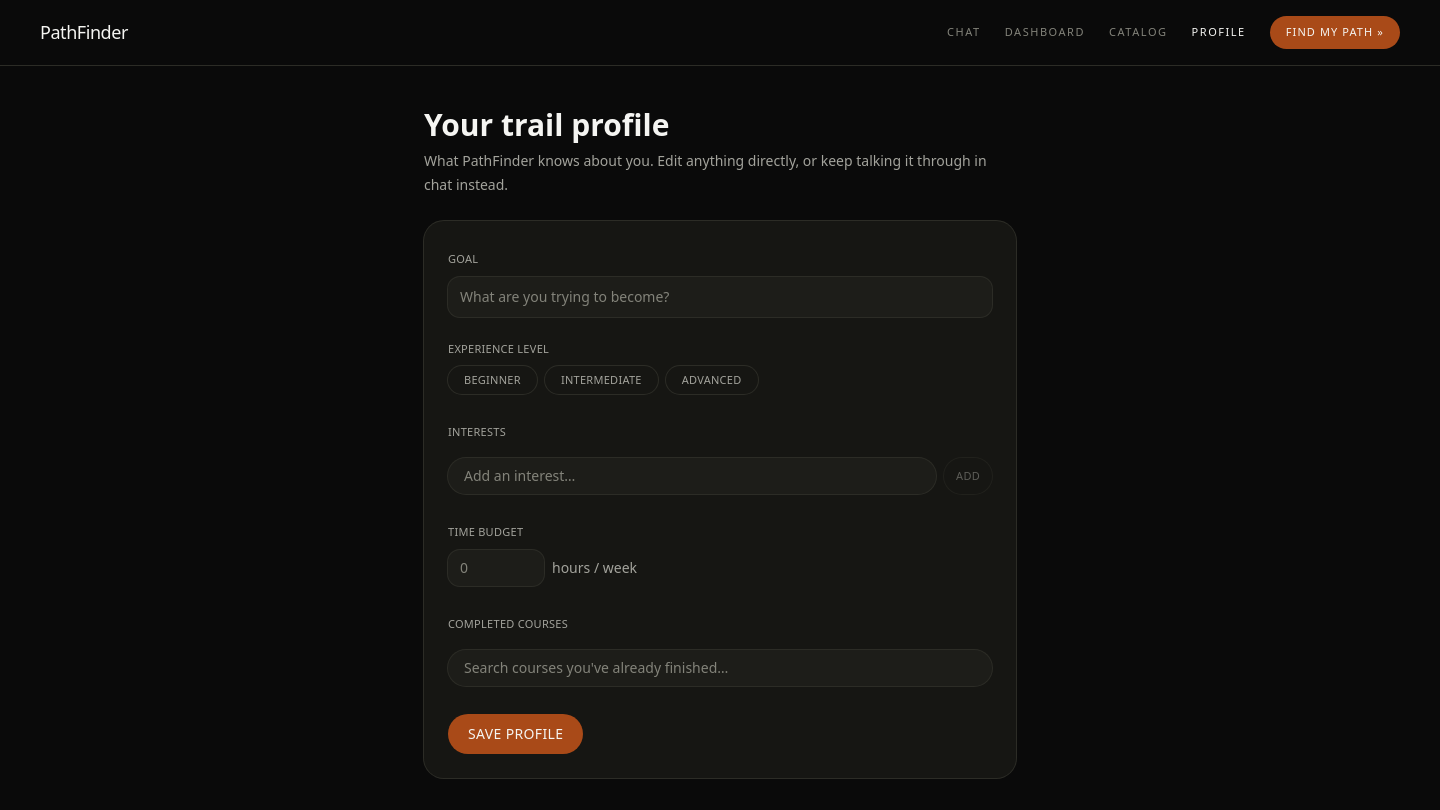
ProfilePage › saves the edited experience level via PATCH
expect the heading "Your trail profile" is shown: met, box [424,104,669,144]
Click the button "Beginner": (492, 380) [448,366,537,394]
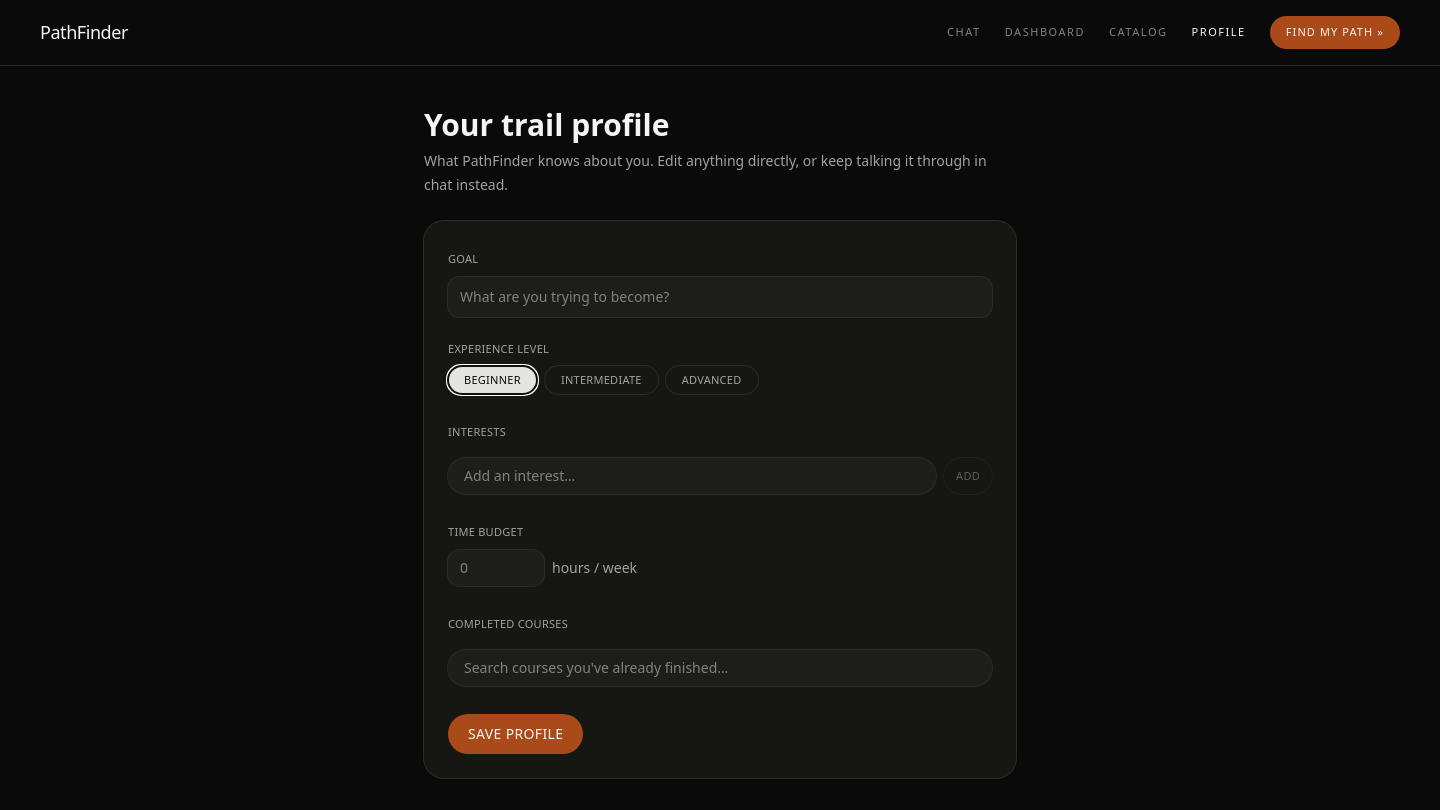
Click the button "Save profile": (516, 734) [448,714,583,754]
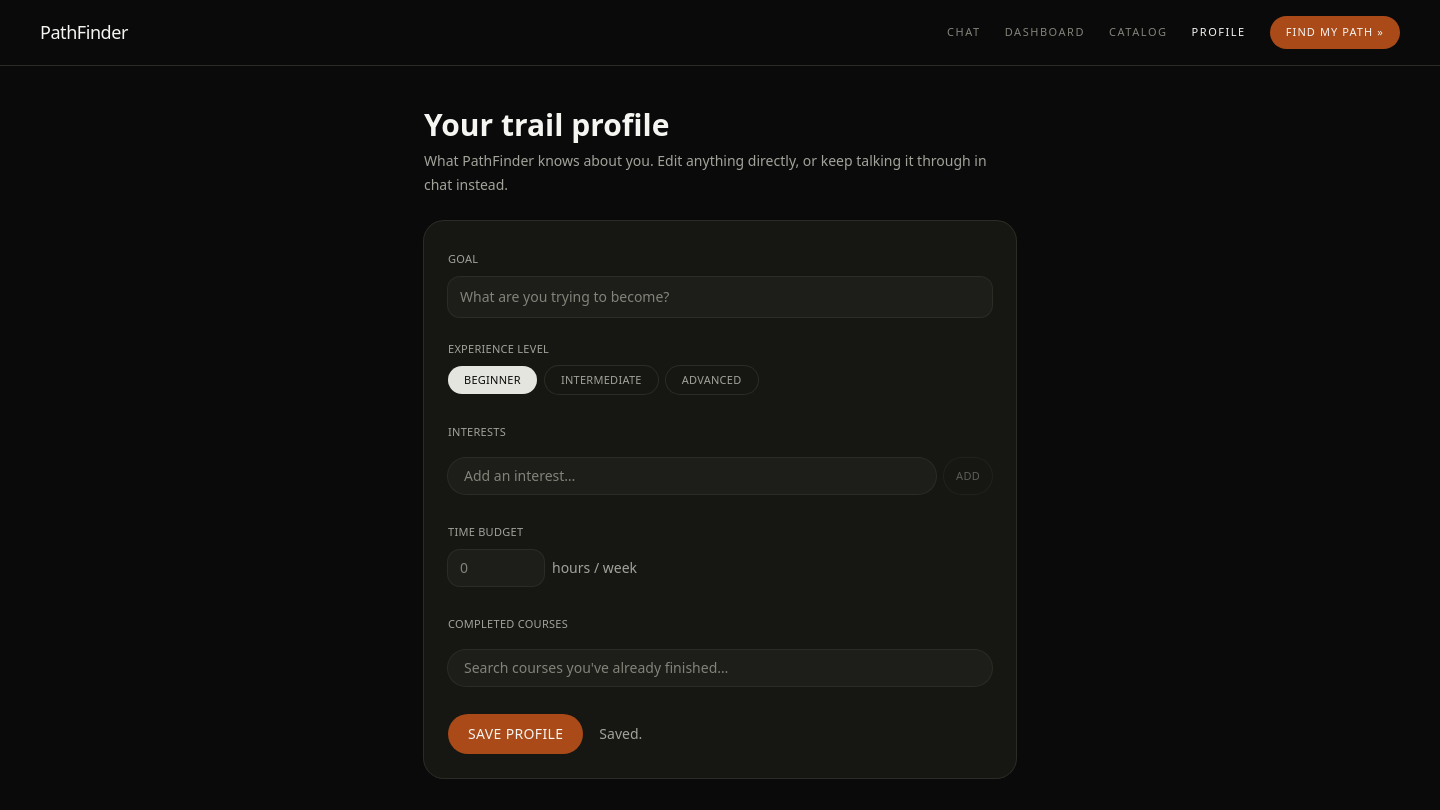
expect the text "Saved." is shown: met, box [599,724,642,744]
